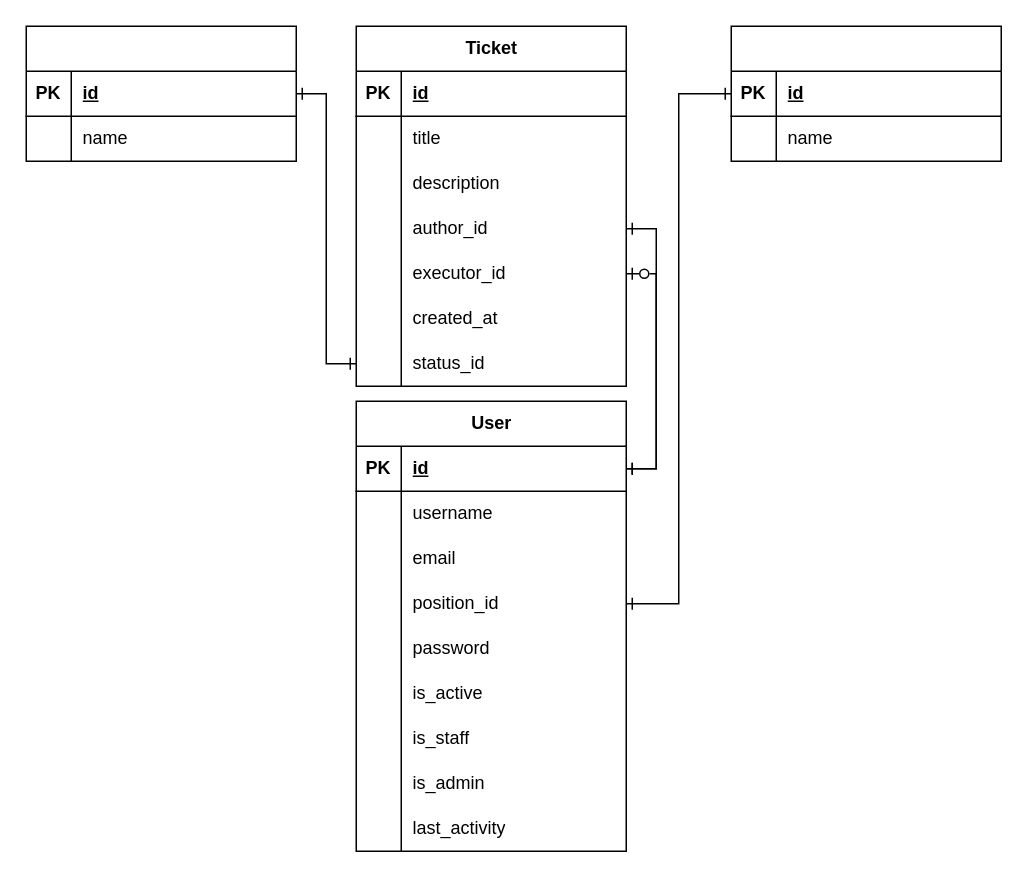
Some shapes in this 1028 by 878 pixel diagram are drawn without their labels. The shapes that lost their labels are listed below. From the top down, each one's box as (x1, y1, x2, y2) in pixels, then its label:
(25, 25, 296, 161): Status
(730, 25, 1001, 161): Position
